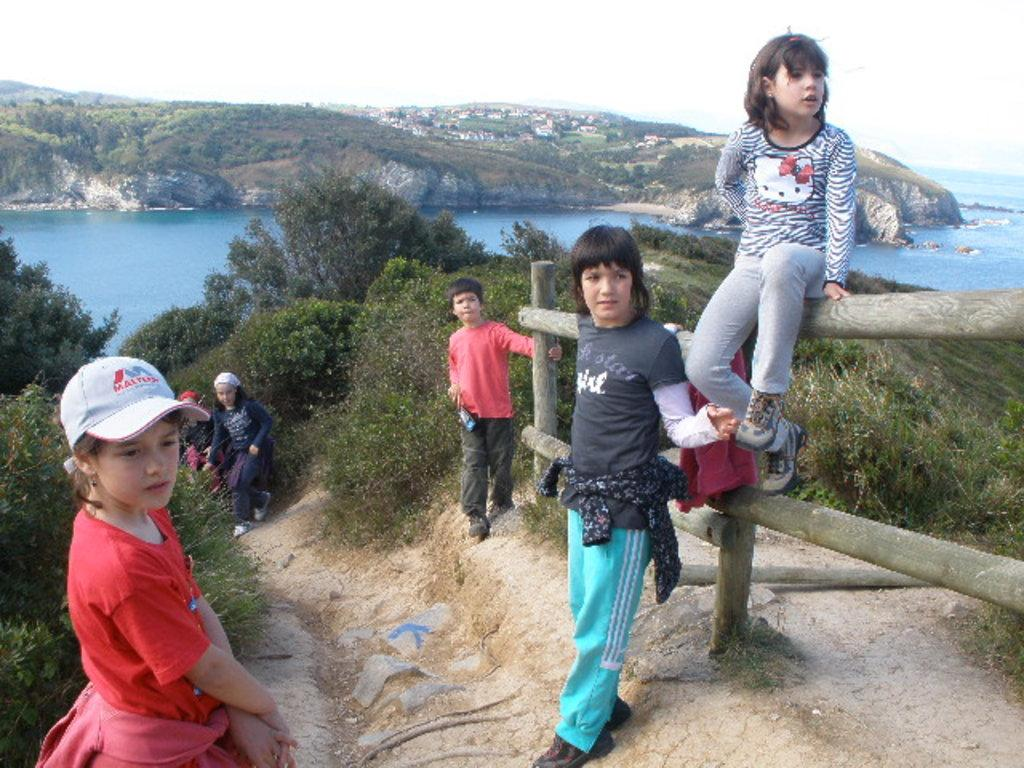Hat: (64, 354, 210, 472)
